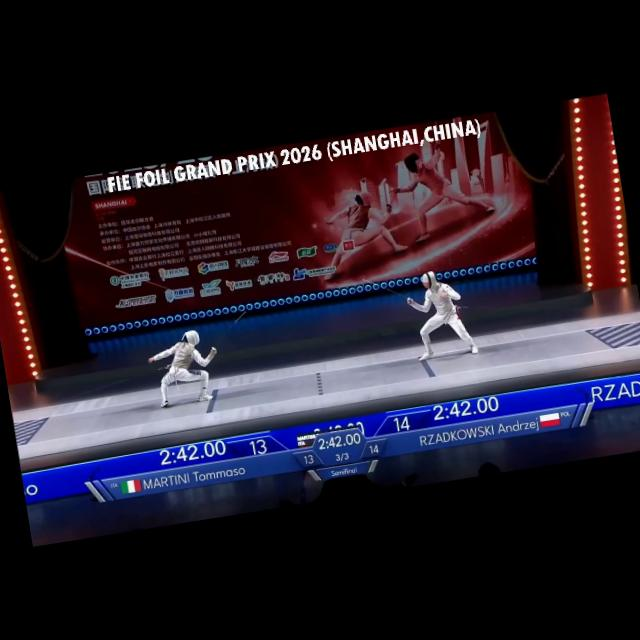blade: (204, 308, 254, 352), (362, 272, 416, 310)
